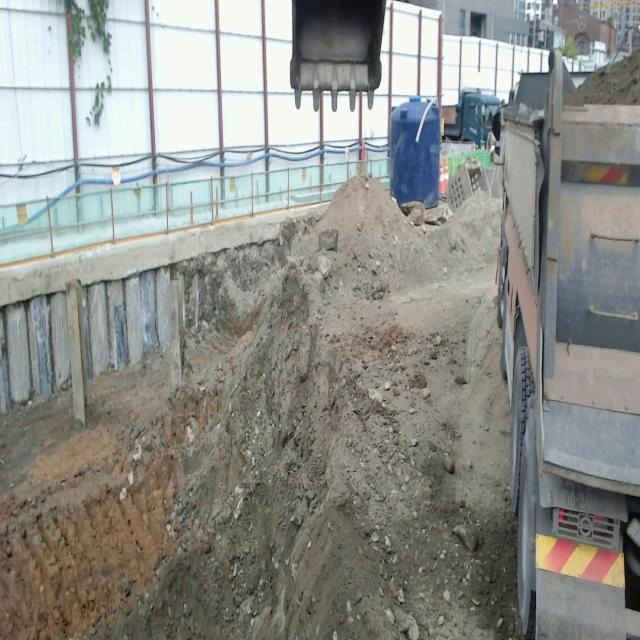cement: (0, 203, 328, 306)
red-sand: (0, 180, 521, 639)
